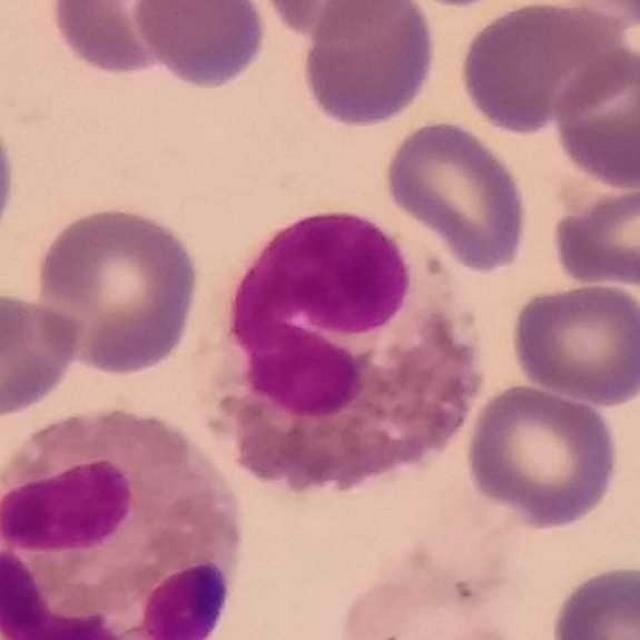eosino: (189, 204, 491, 496), (1, 402, 249, 640)
